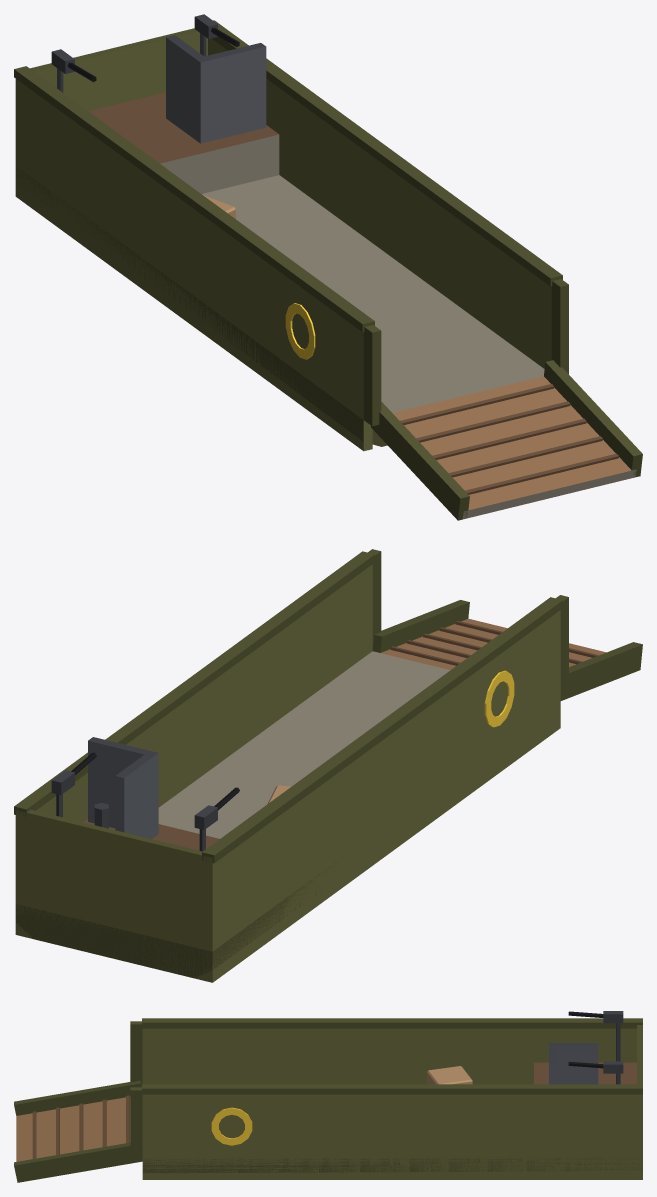
The model's file is landing_craft.glb.
3 renders of one model, top to bottom at view 1: azimuth 30°, elevation 25°; view 2: azimuth 150°, elevation 25°; view 3: azimuth 270°, elevation 25°, orthographic. The views are drawn at different scales.
Visible parts, largest first — view 1: LOD0; view 2: LOD0; view 3: LOD0.
Boxes of the visible parts, x1,y1,x2,y2 form: LOD0: (14,14,642,520); LOD0: (14,549,642,982); LOD0: (14,1011,642,1182).
Size of what is drawn, in the model's own units: 3.36 by 2.57 by 12.7.
Materials: 1 (1 with a texture image).
